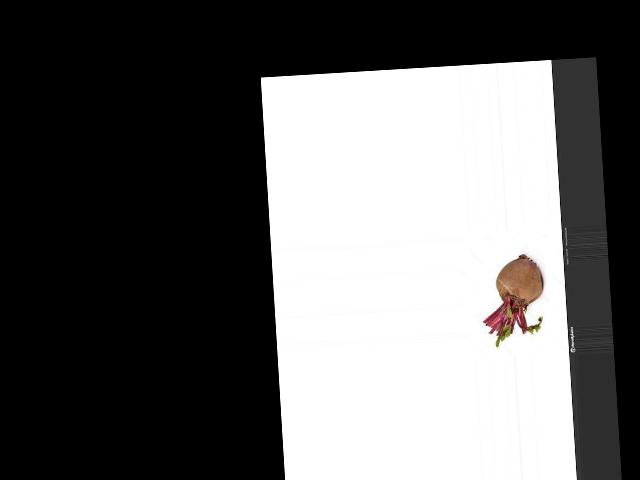beet: (479, 253, 547, 347)
